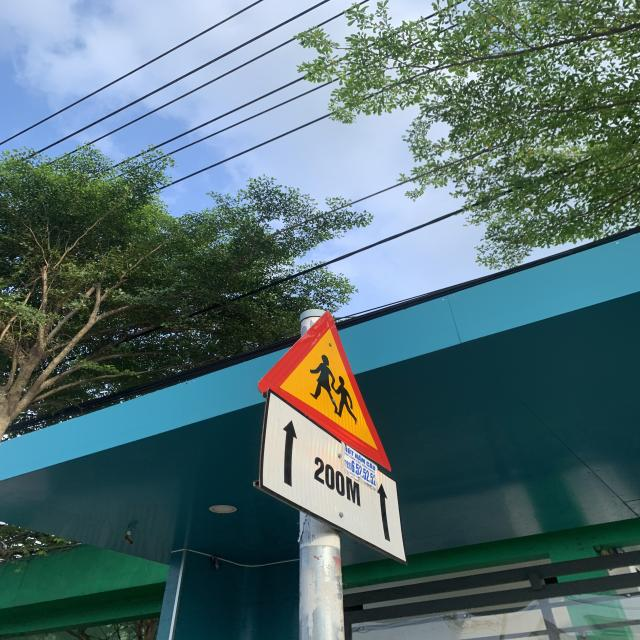Vong_Xuyen: (259, 310, 392, 472)
